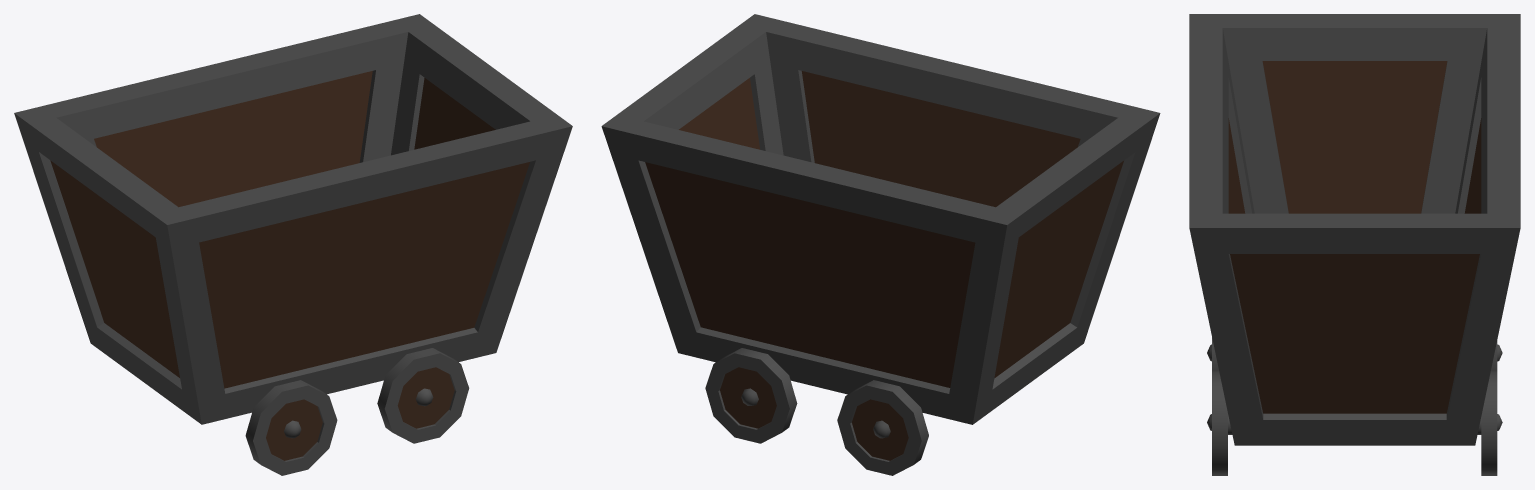
Rendered from M_MineCar.FBX.
3 views of the same model, side by side, from view 1: azimuth 30°, elevation 25°; view 2: azimuth 150°, elevation 25°; view 3: azimuth 270°, elevation 25° (orthographic). The views are drawn at different scales.
Visible parts, largest first — view 1: Box011; view 2: Box011; view 3: Box011.
Part boxes in pixels (<box>): Box011: <box>14,14,572,475</box>; Box011: <box>601,14,1160,475</box>; Box011: <box>1189,14,1520,475</box>.
Bounding box in the file's own units: 197 × 134 × 129.
Materials: 1 (1 with a texture image).
